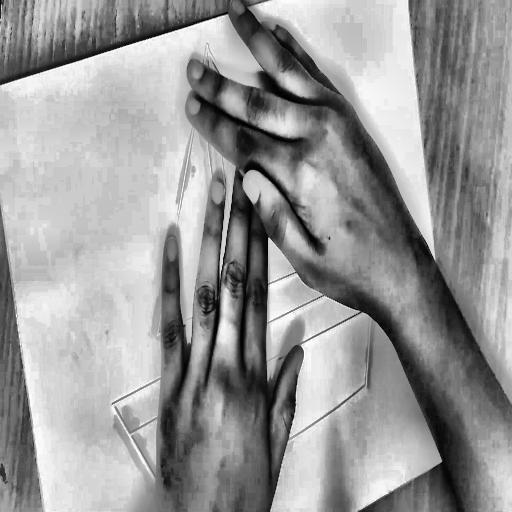boat: (48, 0, 420, 512)
bottom_right: (454, 441, 464, 457)
